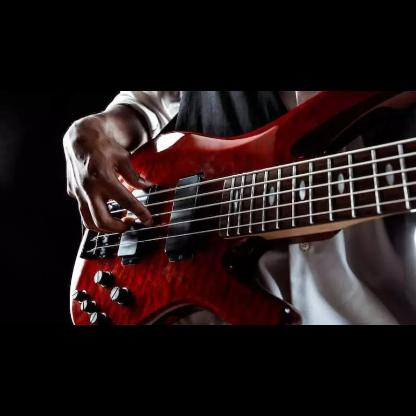bass: (68, 91, 416, 325)
